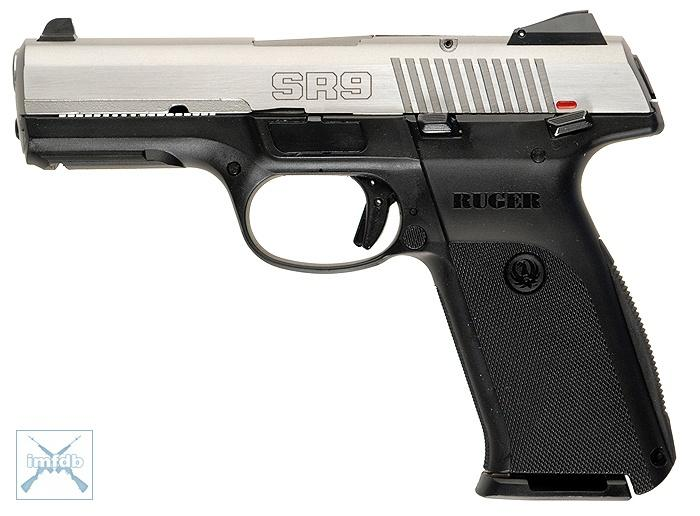gun: (12, 9, 679, 496)
